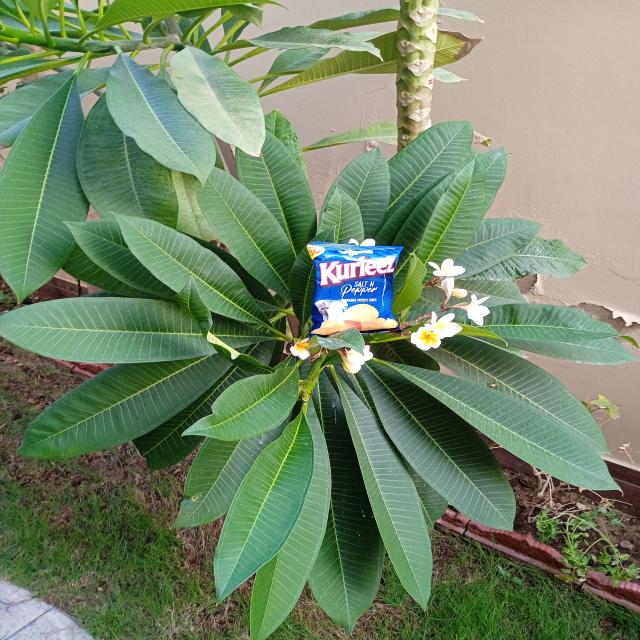Plastic: (298, 232, 412, 340)
